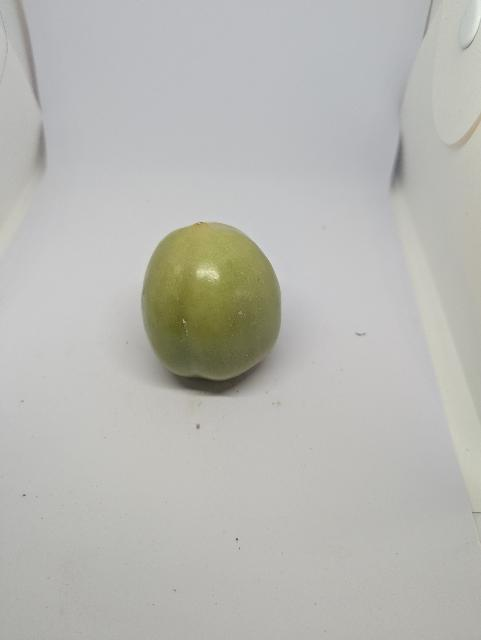green: (140, 220, 283, 382)
